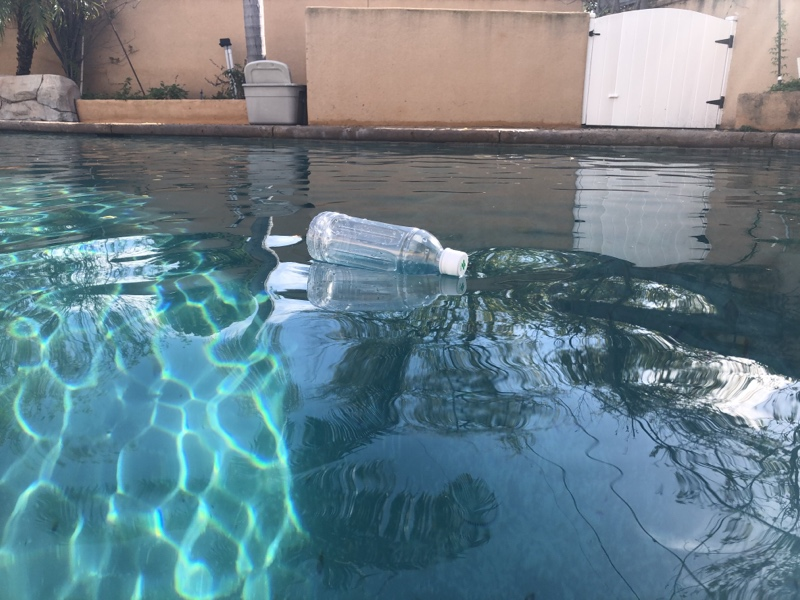Plastic Bottle: (303, 209, 471, 287)
